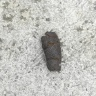Dog: (40, 31, 63, 72)
